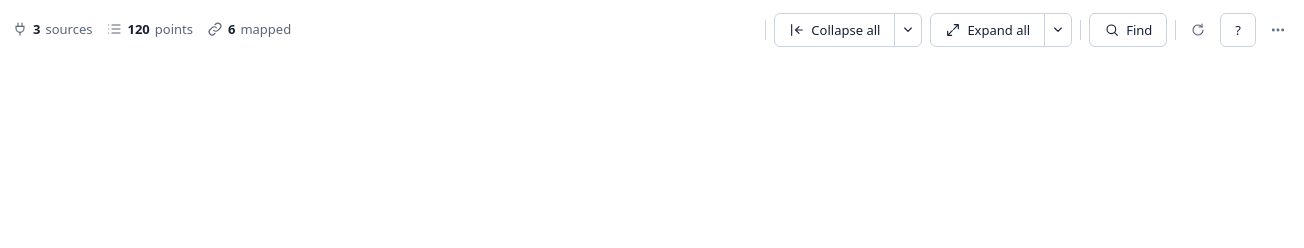
Scenario: GraphBar › the overflow menu › the narrow items come before Clear unmapped, which is last
Click the button named "More Discovery actions". click: (1278, 30)
box: [1264,16,1292,44]
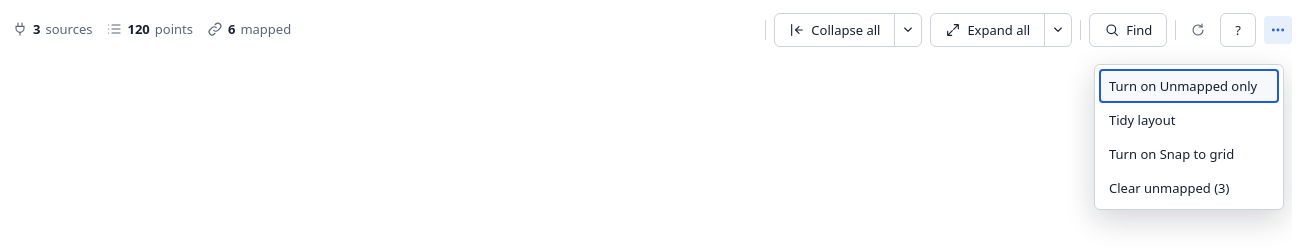
Now the menu items read "Turn on Unmapped only", "Tidy layout", "Turn on Snap to grid", "Clear unmapped (3)", in this order, box [1099,69,1279,103]; [1099,103,1279,137]; [1099,137,1279,171]; [1099,171,1279,205]
